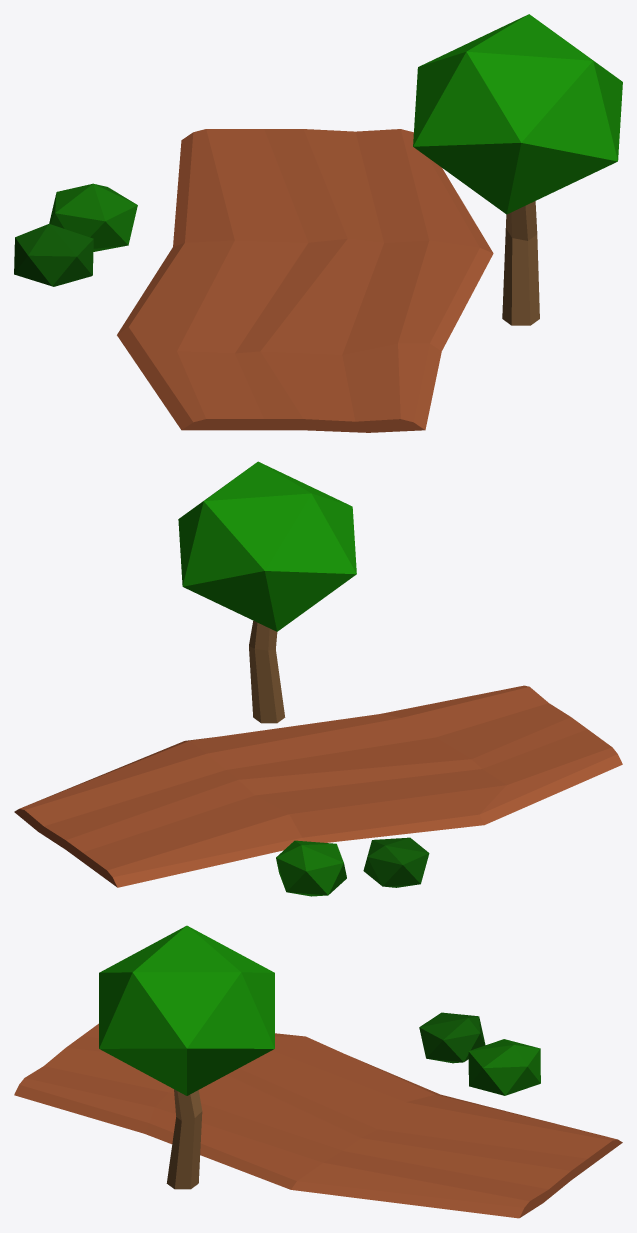
File: street3_03_1.fbx
3 views of the same model, one above another, from view 1: azimuth 30°, elevation 25°; view 2: azimuth 150°, elevation 25°; view 3: azimuth 270°, elevation 25° (orthographic). The views are drawn at different scales.
Parts seen in each view (by area): view 1: redRoad03.005, tree, bush, bush.001; view 2: redRoad03.005, tree, bush, bush.001; view 3: redRoad03.005, tree, bush, bush.001.
Boxes of the visible parts, box(x1,y1,x2,y2) form: redRoad03.005: box(117, 129, 493, 432); tree: box(413, 14, 622, 325); bush: box(49, 183, 137, 251); bush.001: box(14, 224, 93, 286); redRoad03.005: box(14, 685, 622, 887); tree: box(178, 461, 356, 723); bush: box(276, 840, 346, 896); bush.001: box(363, 837, 429, 887); redRoad03.005: box(14, 1023, 622, 1218); tree: box(99, 925, 274, 1189); bush: box(468, 1039, 540, 1095); bush.001: box(419, 1012, 485, 1063).
Size of the model in its own units: 79.95 by 46.22 by 103.
